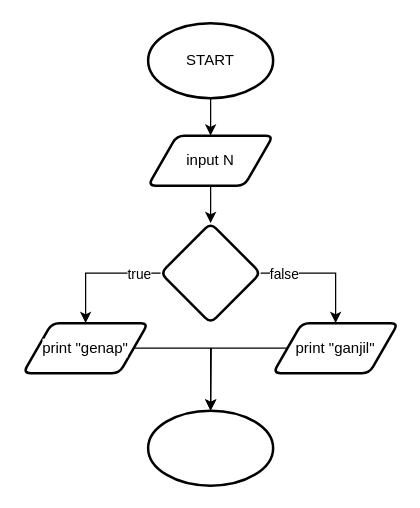
Some shapes in this 420 by 508 pixel diagram are drawn without their labels. Each missing label, with the centre of its shape:
"END" belongs at (x=210, y=447).
"N % 2 == 0" belongs at (x=210, y=272).
